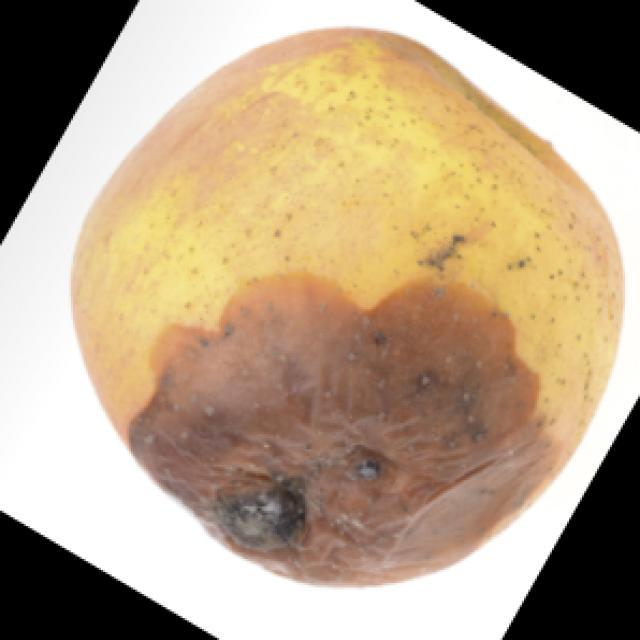Rotten: (72, 36, 610, 572)
